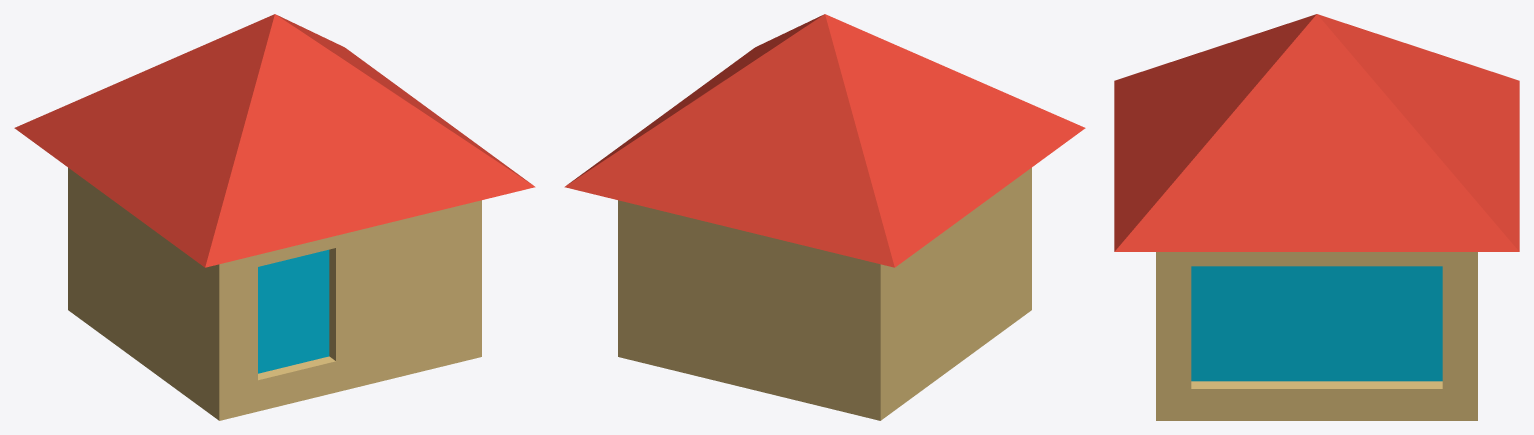
The model's file is house.glb.
3 renders of one model, left to right at view 1: azimuth 30°, elevation 25°; view 2: azimuth 150°, elevation 25°; view 3: azimuth 270°, elevation 25°, orthographic. The views are drawn at different scales.
Parts seen in each view (by area): view 1: Cube; view 2: Cube; view 3: Cube.
Part boxes in pixels (left/top/right/bottom): Cube: left=14, top=14, right=535, bottom=420; Cube: left=564, top=14, right=1085, bottom=420; Cube: left=1114, top=14, right=1519, bottom=420.
Size of the model in its own units: 2.52 by 2.32 by 2.52.
